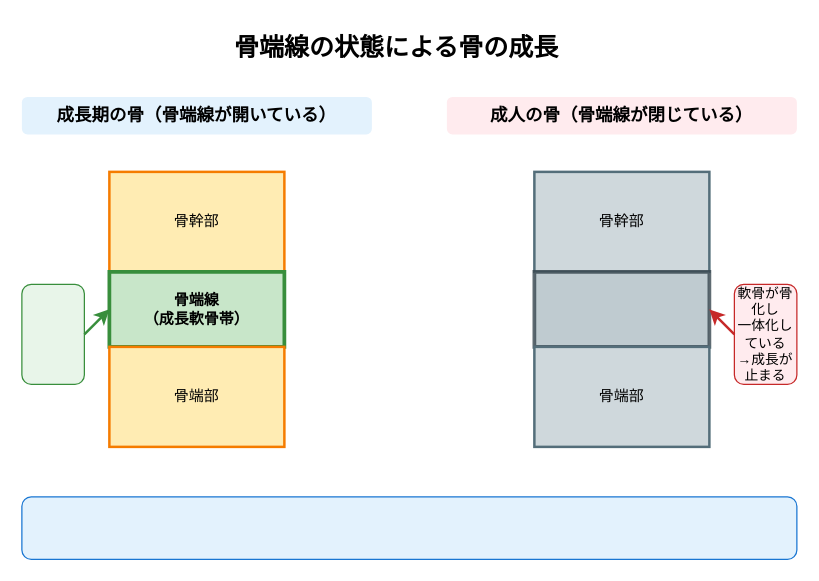
This 819x581 diagram has some shape labels left out. The shapes that lost their labels are listed below. From the top down, each one's box as (x1, y1, x2, y2) in pixels, then its label:
(532, 269, 711, 348): 骨端線 （閉鎖）
(21, 283, 84, 384): ここで細胞分裂が 活発に行われ 骨が伸びる
(21, 496, 797, 559): ※骨端線は思春期の終わりごろに閉じ始め、成人になると完全に閉じます。 骨端線が閉じると、それ以上身長が伸びることはありません。
